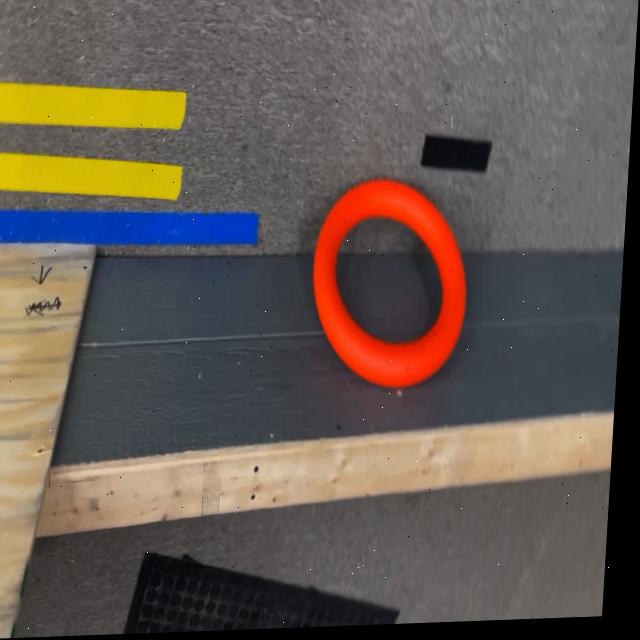note: (311, 179, 475, 394)
